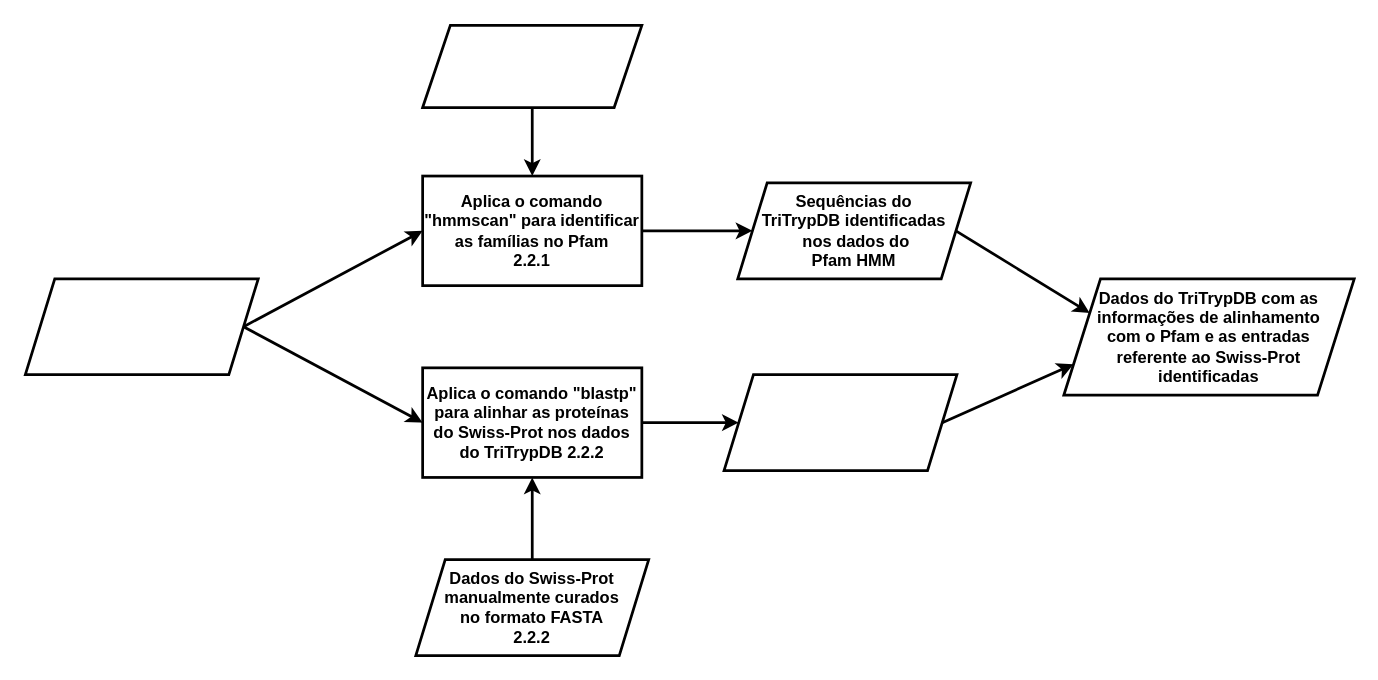
Image size: 1378x680. Some labels were removed from this diagram. Here are the shapes that lost their labels. From the top down, the centre of each, then its label:
At point (532, 65): "Pfam-A HMMs 2.2.2".
At point (141, 326): "Dados do TriTrypDB no formato FASTA 2.2.2".
At point (840, 422): "Entradas do Swiss-Prot identificadas no banco TriTrypDB".
